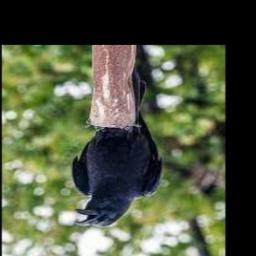Crow: (71, 65, 163, 227)
